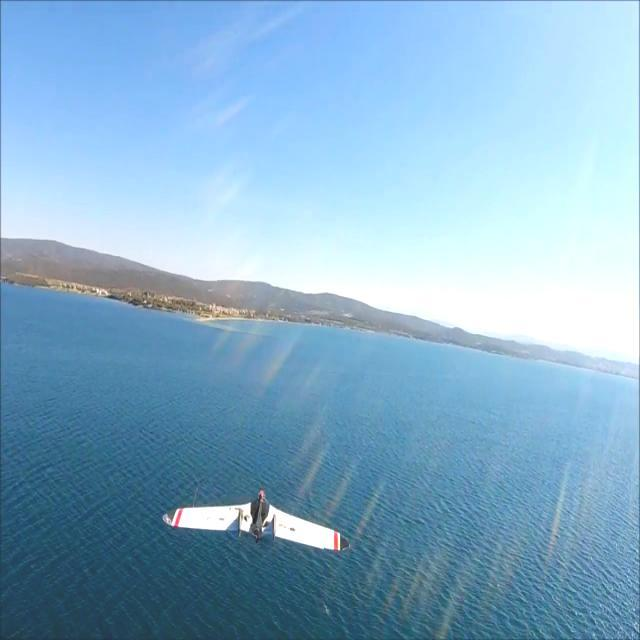iha: (159, 486, 353, 542)
